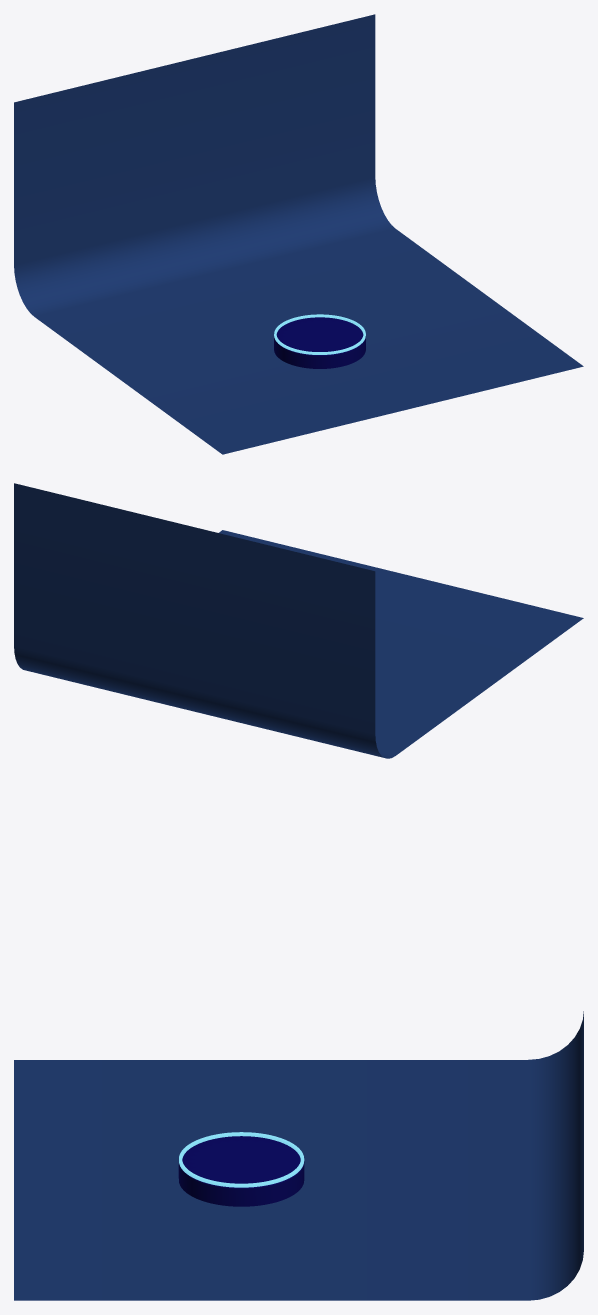
3 renders of one model, top to bottom at view 1: azimuth 30°, elevation 25°; view 2: azimuth 150°, elevation 25°; view 3: azimuth 270°, elevation 25°, orthographic. The views are drawn at different scales.
Visible parts, largest first — view 1: Plane.014, Circle.001, Circle.041; view 2: Plane.014; view 3: Plane.014, Circle.001, Circle.041.
Boxes of the visible parts, x1,y1,x2,y2 form: Plane.014: [14, 14, 583, 454]; Circle.001: [274, 317, 365, 368]; Circle.041: [274, 314, 365, 354]; Plane.014: [14, 483, 583, 758]; Plane.014: [14, 1011, 583, 1300]; Circle.001: [178, 1136, 304, 1206]; Circle.041: [179, 1132, 304, 1187].
Bounding box in the file's own units: 36.07 × 19.46 × 36.07.
